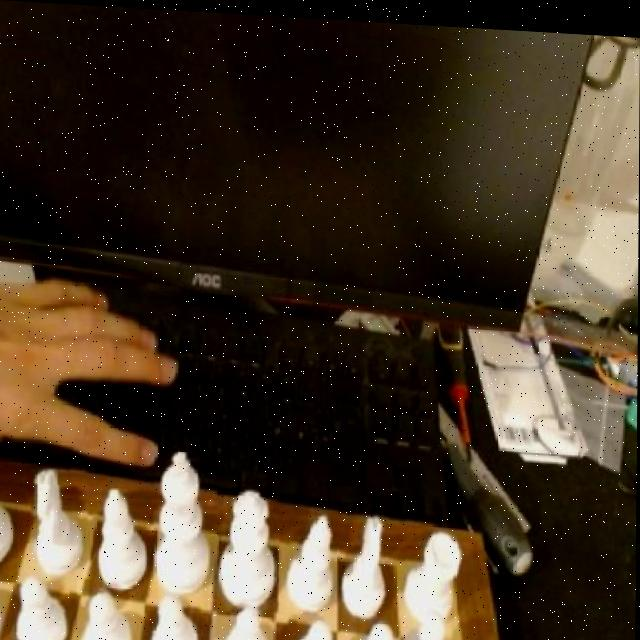black-rook: (95, 489, 152, 593), (289, 506, 339, 614)
white-bishop: (155, 449, 218, 597)
white-king: (32, 460, 93, 581), (341, 502, 393, 618)
white-knight: (12, 572, 69, 640), (76, 585, 134, 640), (147, 592, 204, 640), (216, 597, 273, 640), (287, 608, 341, 640), (399, 616, 454, 640), (347, 616, 396, 640)
white-pawn: (218, 483, 282, 612)
white-queen: (406, 516, 465, 623)
